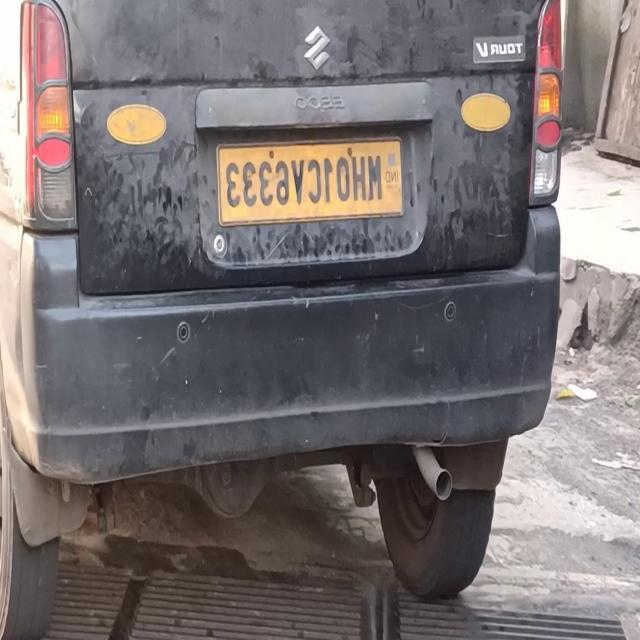license_plate: (213, 118, 407, 233)
